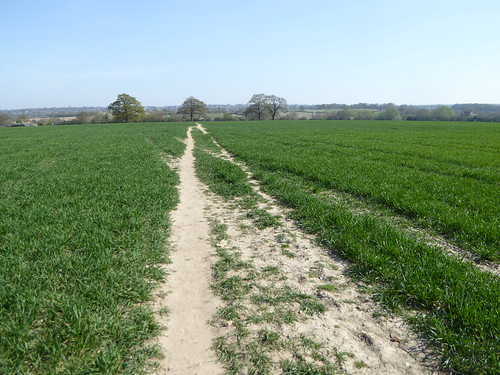grass: (230, 120, 500, 314), (1, 123, 190, 375)
road: (161, 127, 317, 375)
sky: (1, 1, 484, 98)
tree: (238, 89, 286, 120), (109, 90, 140, 125), (172, 95, 209, 123)
